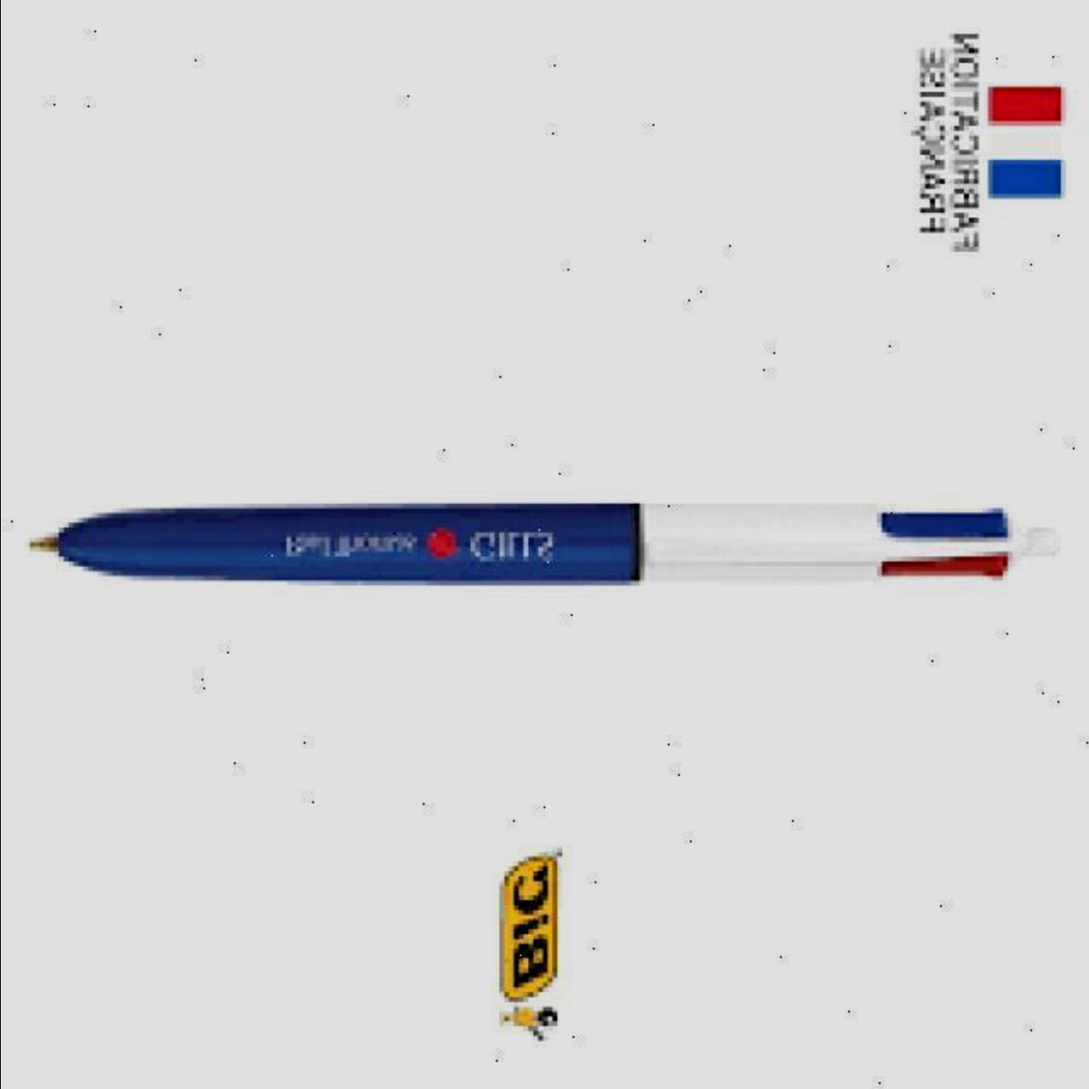pen: (15, 442, 1050, 650)
